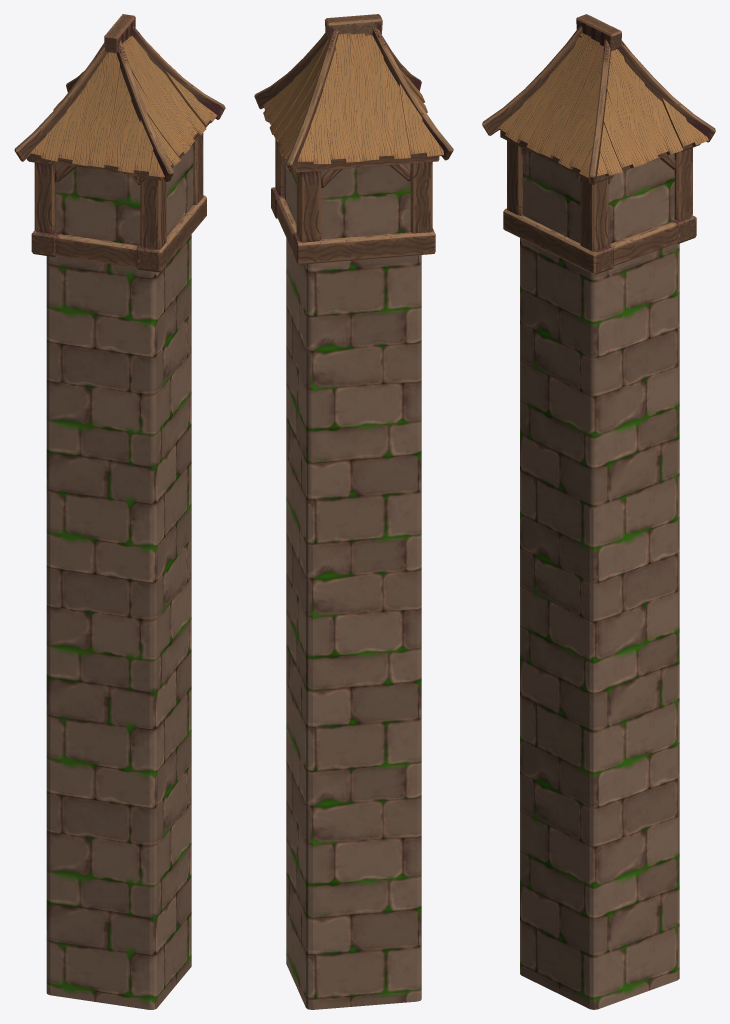
The model's file is SM_Arena_TowerSmall.fbx.
3 renders of one model, left to right at view 1: azimuth 30°, elevation 25°; view 2: azimuth 150°, elevation 25°; view 3: azimuth 270°, elevation 25°, orthographic.
Visible parts, largest first — view 1: TowerSmall_Walls, TowerSmall_WoodenFrame, TowerSmall_RoofPlanks; view 2: TowerSmall_Walls, TowerSmall_RoofPlanks, TowerSmall_WoodenFrame; view 3: TowerSmall_Walls, TowerSmall_WoodenFrame, TowerSmall_RoofPlanks.
Boxes of the visible parts, <box> form: TowerSmall_Walls: <box>46,145,193,1009</box>; TowerSmall_WoodenFrame: <box>14,14,225,272</box>; TowerSmall_RoofPlanks: <box>30,35,217,177</box>; TowerSmall_Walls: <box>283,157,421,1009</box>; TowerSmall_RoofPlanks: <box>263,33,443,168</box>; TowerSmall_WoodenFrame: <box>254,14,453,264</box>; TowerSmall_Walls: <box>520,151,679,1009</box>; TowerSmall_WoodenFrame: <box>482,14,715,274</box>; TowerSmall_RoofPlanks: <box>498,33,708,177</box>.
Bounding box in the file's own units: 0.4092 × 1.84 × 0.4083.
